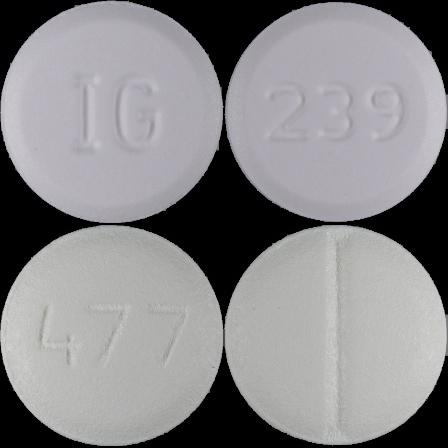60760-239: (0, 0, 224, 224)
